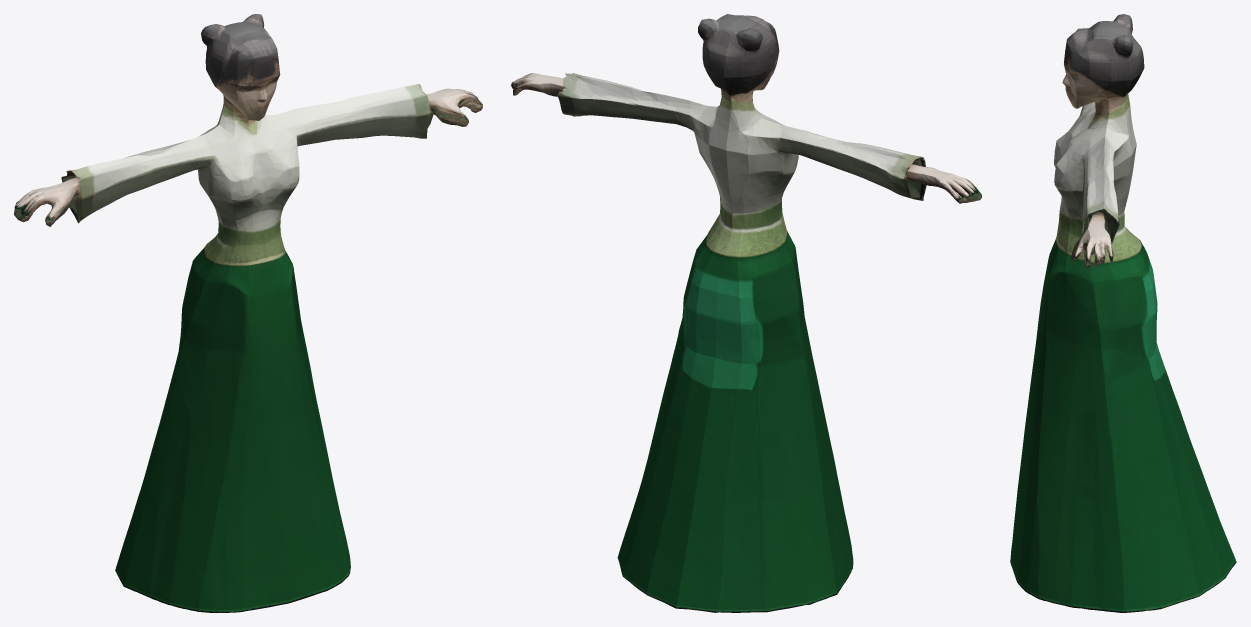
Rendered from after.glb.
3 renders of one model, left to right at view 1: azimuth 30°, elevation 25°; view 2: azimuth 150°, elevation 25°; view 3: azimuth 270°, elevation 25°, orthographic.
Visible parts, largest first — view 1: world; view 2: world; view 3: world.
Part boxes in pixels (x1=…): world: x1=14, y1=14, x2=482, y2=612; world: x1=511, y1=14, x2=981, y2=612; world: x1=1010, y1=14, x2=1236, y2=612.
Bounding box in the file's own units: 0.8972 × 1 × 0.3812.
Materials: 1 (1 with a texture image).
